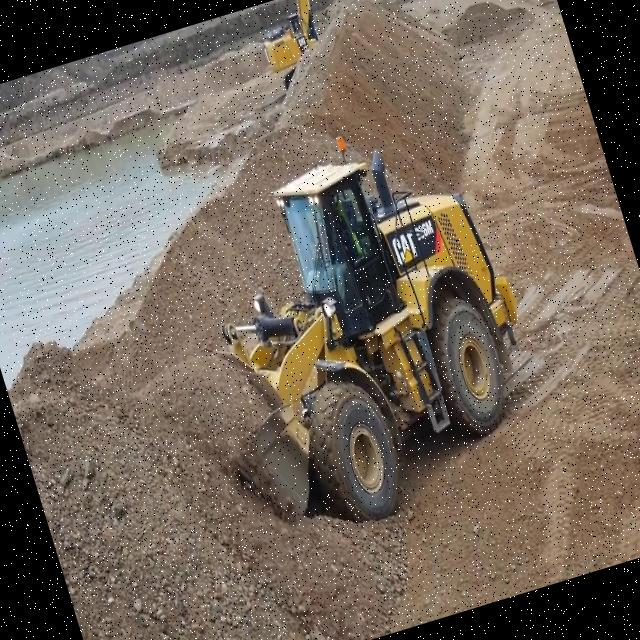Excavator: (249, 0, 399, 94)
Loader: (145, 95, 566, 560)
